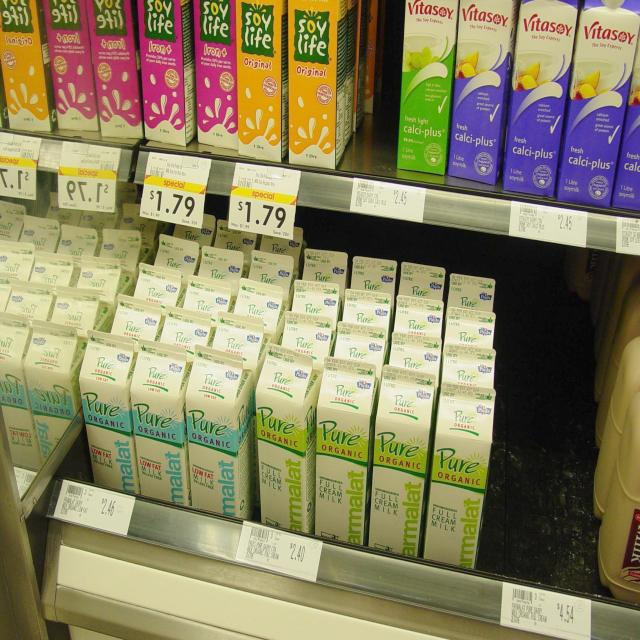empty_space: (501, 293, 583, 563)
